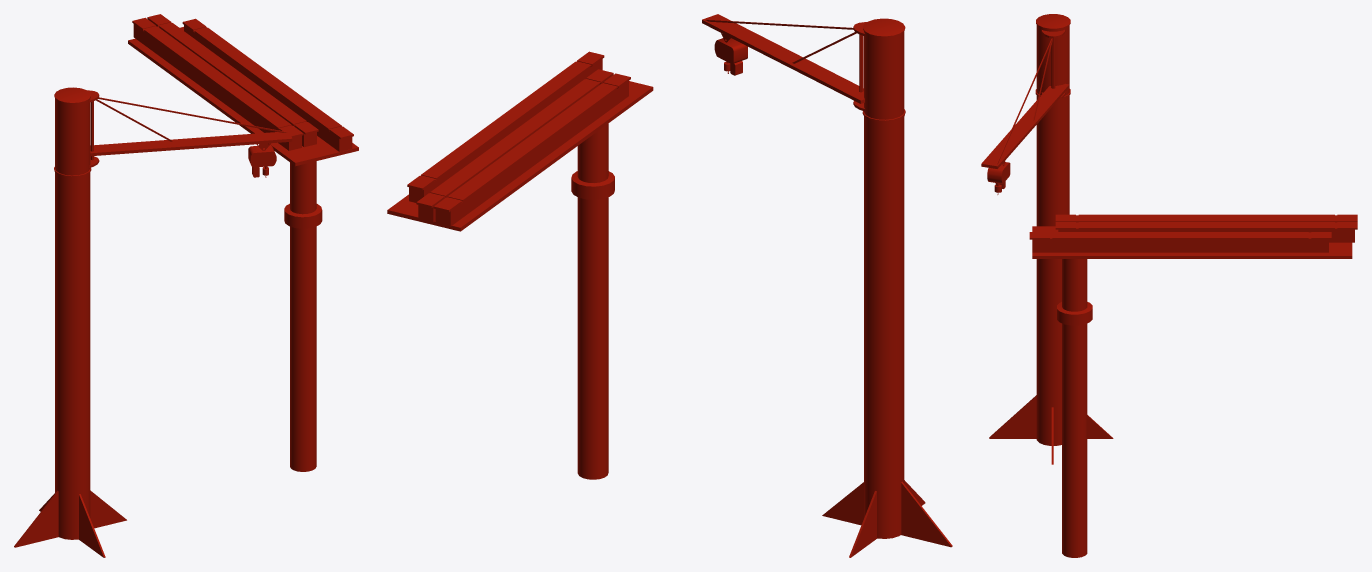
The model's file is CRANE.fbx.
3 views of the same model, side by side, from view 1: azimuth 30°, elevation 25°; view 2: azimuth 150°, elevation 25°; view 3: azimuth 270°, elevation 25° (orthographic). The views are drawn at different scales.
Visible parts, largest first — view 1: Cylinder.035, Cube.043; view 2: Cylinder.035, Cube.043; view 3: Cylinder.035, Cube.043.
Boxes of the visible parts, x1,y1,x2,y2 form: Cylinder.035: (14,14,358,557); Cube.043: (90,97,292,177); Cylinder.035: (387,18,952,557); Cube.043: (702,14,864,103); Cylinder.035: (989,14,1357,557); Cube.043: (981,38,1069,194).
Size of the model in its own units: 4227 by 5306 by 4322.
